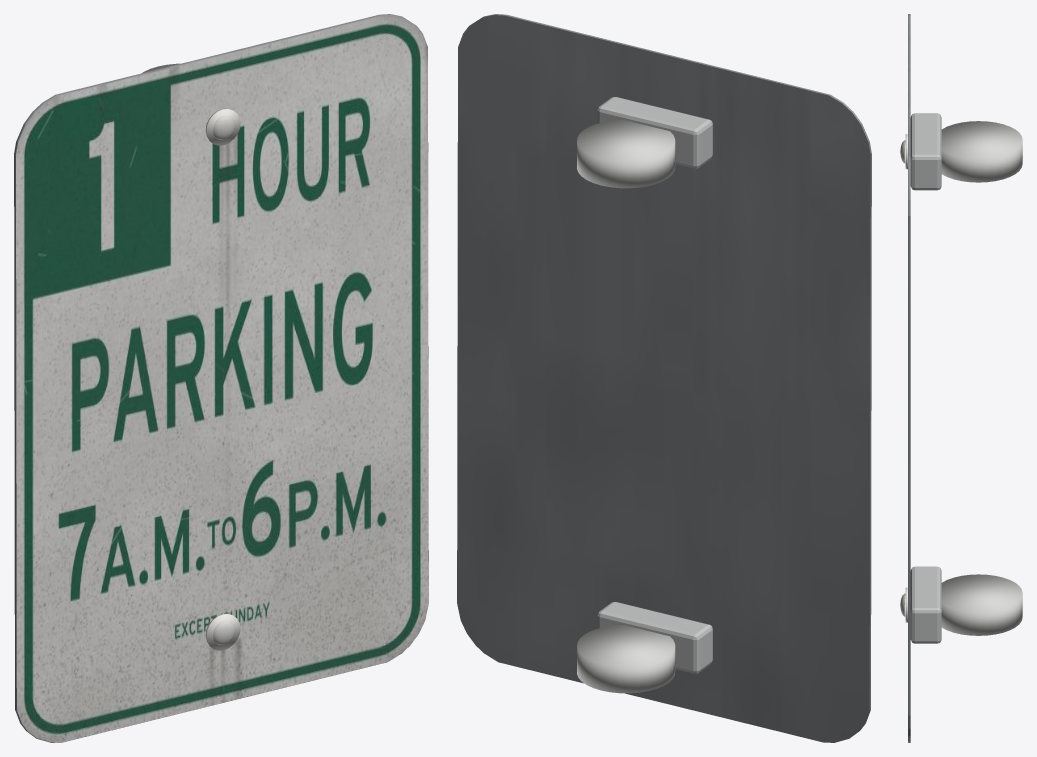
Rendered from timeParking-v1.glb.
The picture shows the model from 3 angles, left to right: view 1: azimuth 30°, elevation 25°; view 2: azimuth 150°, elevation 25°; view 3: azimuth 270°, elevation 25°; orthographic projection. The views are drawn at different scales.
Visible parts, largest first — view 1: timeParking-v1; view 2: timeParking-v1; view 3: timeParking-v1.
Part boxes in pixels (box(x1,y1,x2,y2)): timeParking-v1: box(14, 14, 428, 742); timeParking-v1: box(457, 14, 871, 742); timeParking-v1: box(900, 14, 1022, 742).
Size of the model in its own units: 0.3048 by 0.4573 by 0.0871.
Materials: 1 (1 with a texture image).
